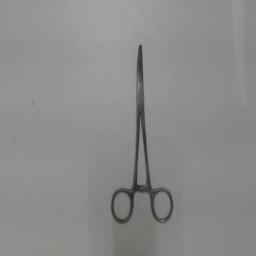Crile Artery Forceps: (107, 38, 177, 226)
